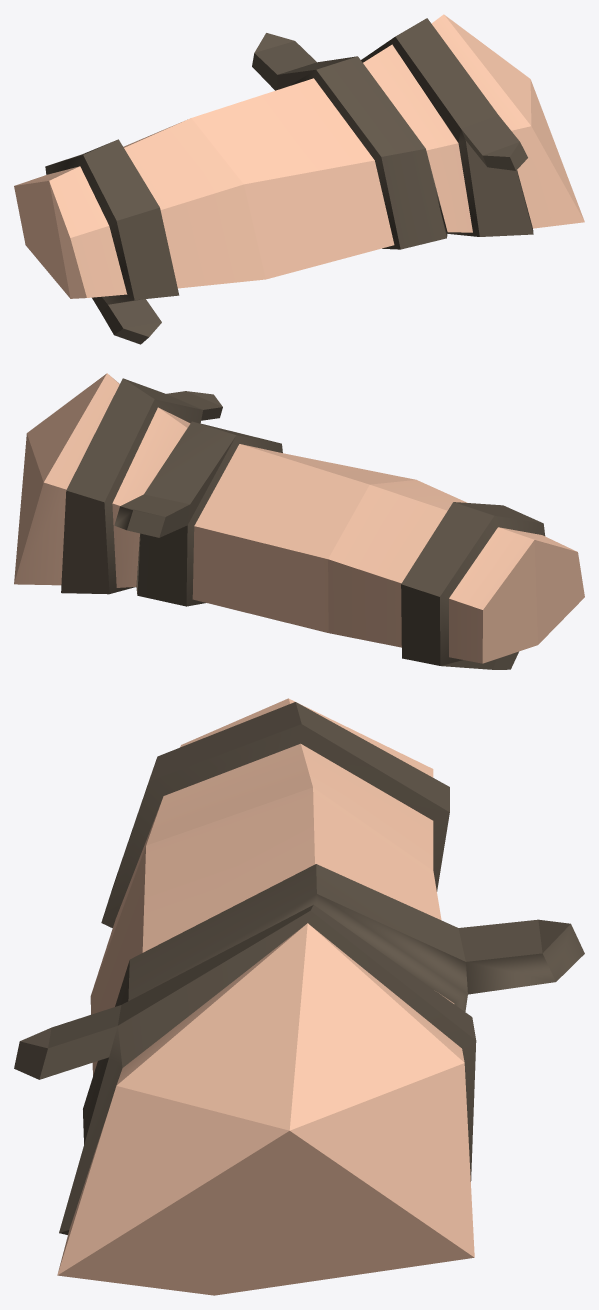
File: Chr_ArmUpperRight_Male_03_Static.fbx
The picture shows the model from 3 angles, top to bottom: view 1: azimuth 30°, elevation 25°; view 2: azimuth 150°, elevation 25°; view 3: azimuth 270°, elevation 25°; orthographic projection. The views are drawn at different scales.
Visible parts, largest first — view 1: Chr_ArmUpperRight_Male_03_Static; view 2: Chr_ArmUpperRight_Male_03_Static; view 3: Chr_ArmUpperRight_Male_03_Static.
Part boxes in pixels (x1,y1,x2,y2): Chr_ArmUpperRight_Male_03_Static: [14, 14, 584, 344]; Chr_ArmUpperRight_Male_03_Static: [14, 373, 584, 669]; Chr_ArmUpperRight_Male_03_Static: [14, 698, 584, 1295].
Bounding box in the file's own units: 0.3345 × 0.1433 × 0.1954.
